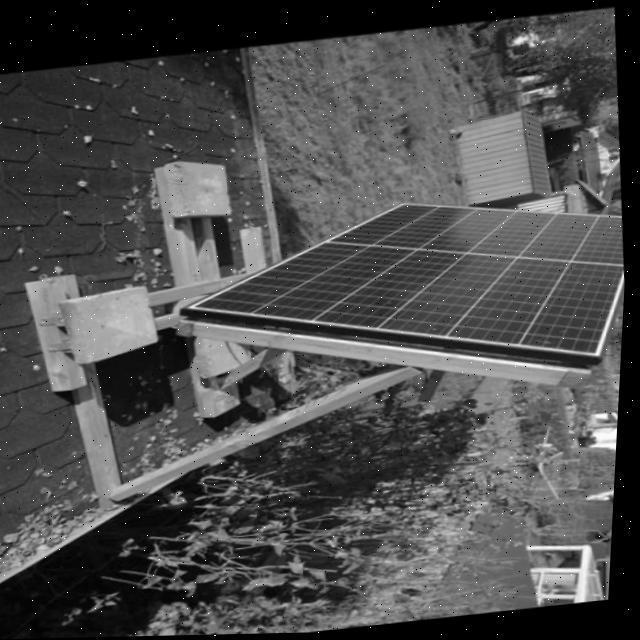Normal Solar Panel: (182, 182, 632, 400)
